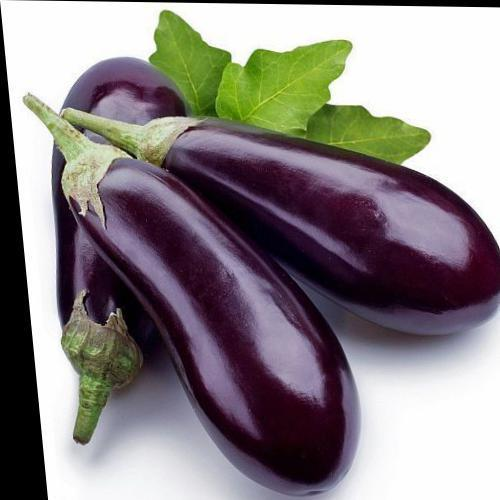eggplant: (18, 59, 466, 457)
